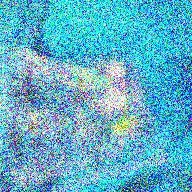러키펜정: (106, 92, 127, 108)
씨엠지세파클러캡슐: (108, 62, 127, 93)
에르도캡슐: (72, 67, 112, 90)
휴티렌정: (111, 117, 138, 136)
